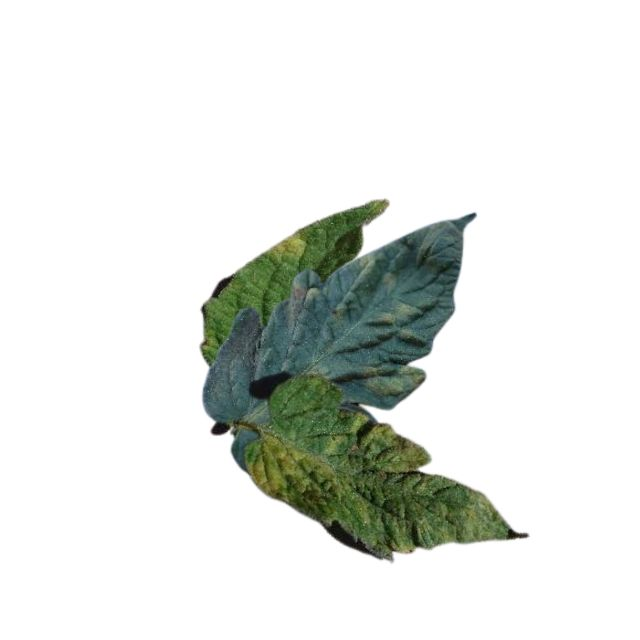Leaf_Mold: (245, 409, 512, 558), (363, 359, 428, 397), (369, 303, 423, 344), (259, 229, 307, 262), (285, 283, 319, 324)
